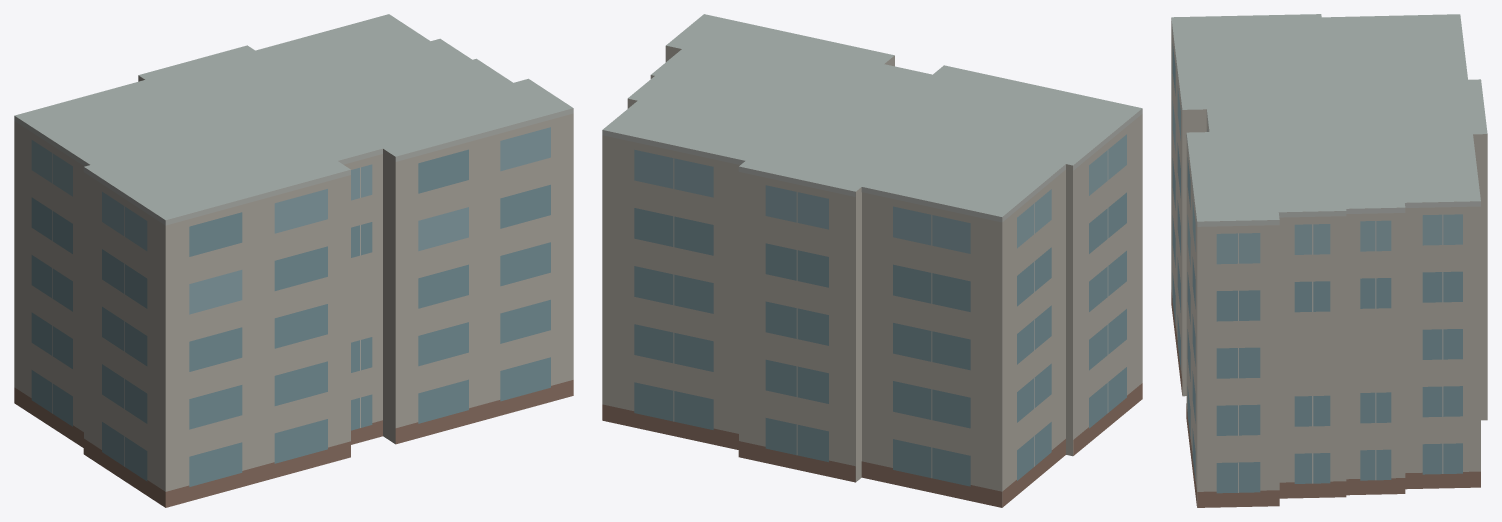
Rendered from survey-upis-32957619.glb.
3 views of the same model, side by side, from view 1: azimuth 30°, elevation 25°; view 2: azimuth 150°, elevation 25°; view 3: azimuth 270°, elevation 25° (orthographic).
Parts seen in each view (by area): view 1: survey-upis-32957619.tmp; view 2: survey-upis-32957619.tmp; view 3: survey-upis-32957619.tmp.
Boxes of the visible parts, x1=… form: survey-upis-32957619.tmp: x1=14, y1=14, x2=573, y2=507; survey-upis-32957619.tmp: x1=602, y1=14, x2=1142, y2=507; survey-upis-32957619.tmp: x1=1171, y1=14, x2=1487, y2=507.
Bounding box in the file's own units: 20.54 × 13.2 × 13.23.
